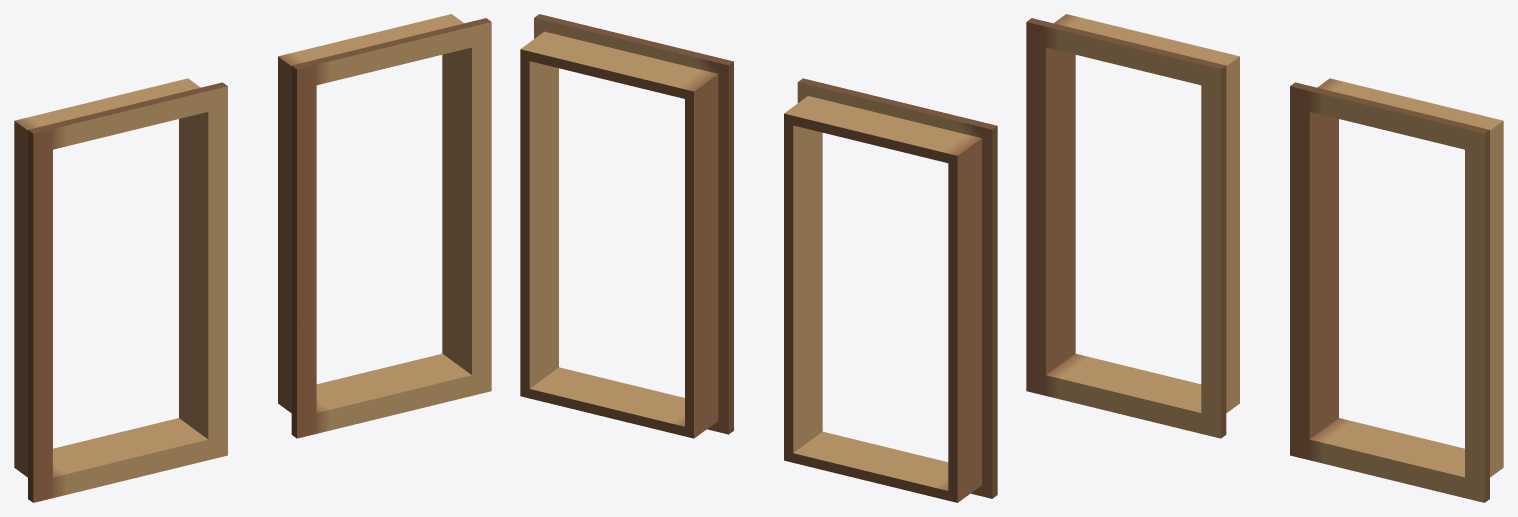
The model's file is DBK_WinDouble_A_Full.fbx.
3 renders of one model, left to right at view 1: azimuth 30°, elevation 25°; view 2: azimuth 150°, elevation 25°; view 3: azimuth 330°, elevation 25°, orthographic.
Parts seen in each view (by area): view 1: DBK_WinDouble_A_Full; view 2: DBK_WinDouble_A_Full; view 3: DBK_WinDouble_A_Full.
Part boxes in pixels (bbox=[...]): DBK_WinDouble_A_Full: bbox=[14, 14, 491, 502]; DBK_WinDouble_A_Full: bbox=[520, 14, 997, 502]; DBK_WinDouble_A_Full: bbox=[1026, 14, 1503, 502].
Size of the model in its own units: 174 by 134 by 19.37.
